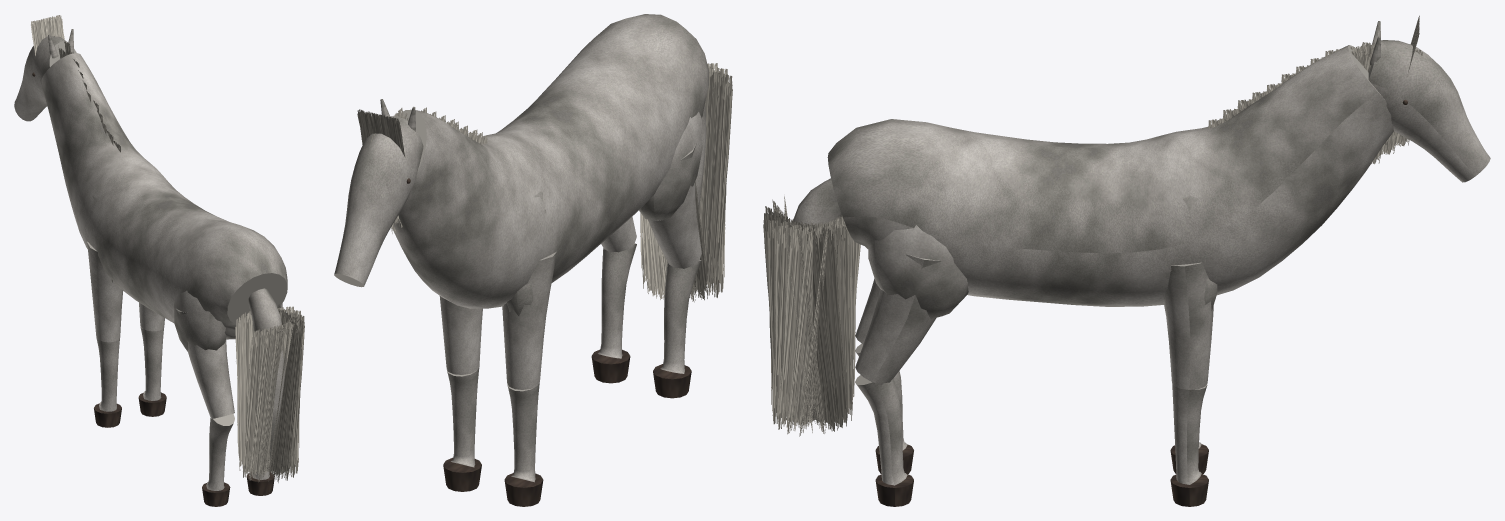
The model's file is cavallo_grigio.gltf.
The picture shows the model from 3 angles, left to right: view 1: azimuth 30°, elevation 25°; view 2: azimuth 150°, elevation 25°; view 3: azimuth 270°, elevation 25°; orthographic projection. The views are drawn at different scales.
Visible parts, largest first — view 1: cavallo_grigio; view 2: cavallo_grigio; view 3: cavallo_grigio.
Part boxes in pixels (<box>): cavallo_grigio: <box>14,15,304,506</box>; cavallo_grigio: <box>334,14,732,506</box>; cavallo_grigio: <box>763,15,1490,506</box>.
Size of the model in its own units: 0.6098 by 2.05 by 2.94.
3 materials, 3 textured.
